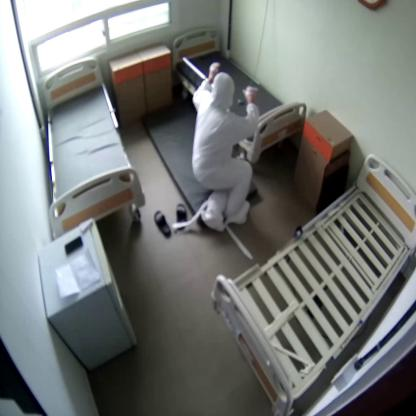Person: (192, 62, 259, 234)
